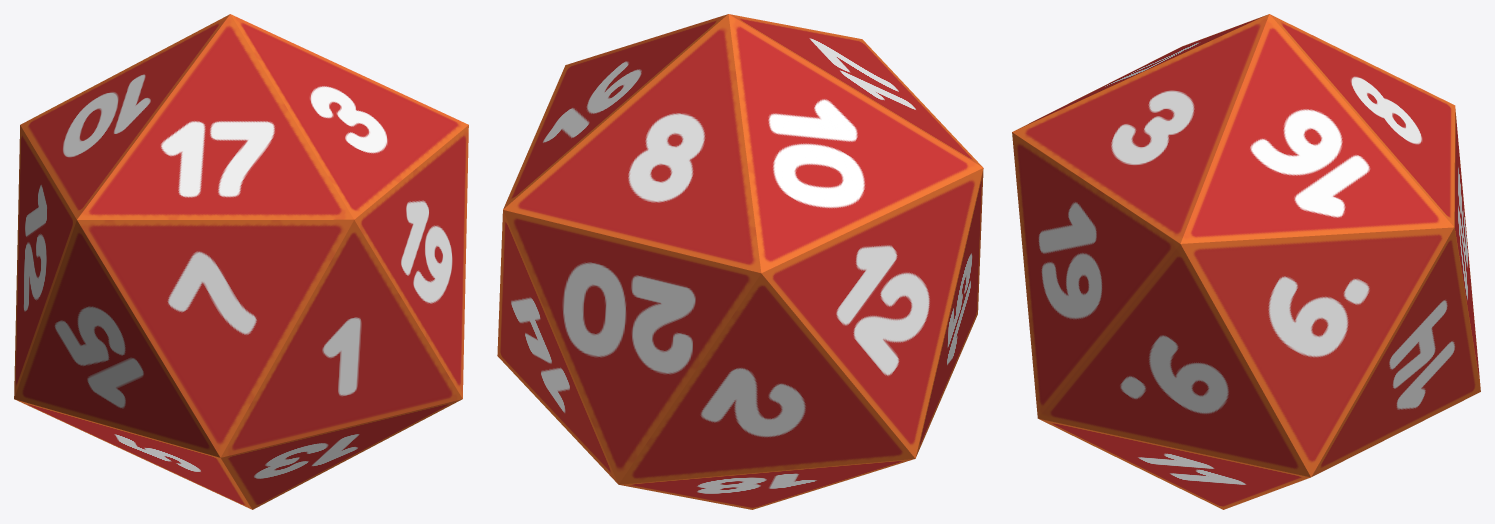
3 renders of one model, left to right at view 1: azimuth 30°, elevation 25°; view 2: azimuth 150°, elevation 25°; view 3: azimuth 270°, elevation 25°, orthographic. The views are drawn at different scales.
Visible parts, largest first — view 1: d20; view 2: d20; view 3: d20.
Boxes of the visible parts, x1,y1,x2,y2 form: d20: (14,14,468,509); d20: (497,14,983,509); d20: (1012,14,1480,509).
Bounding box in the file's own units: 6.81 × 7.97 × 6.83.
1 material, 1 textured.
